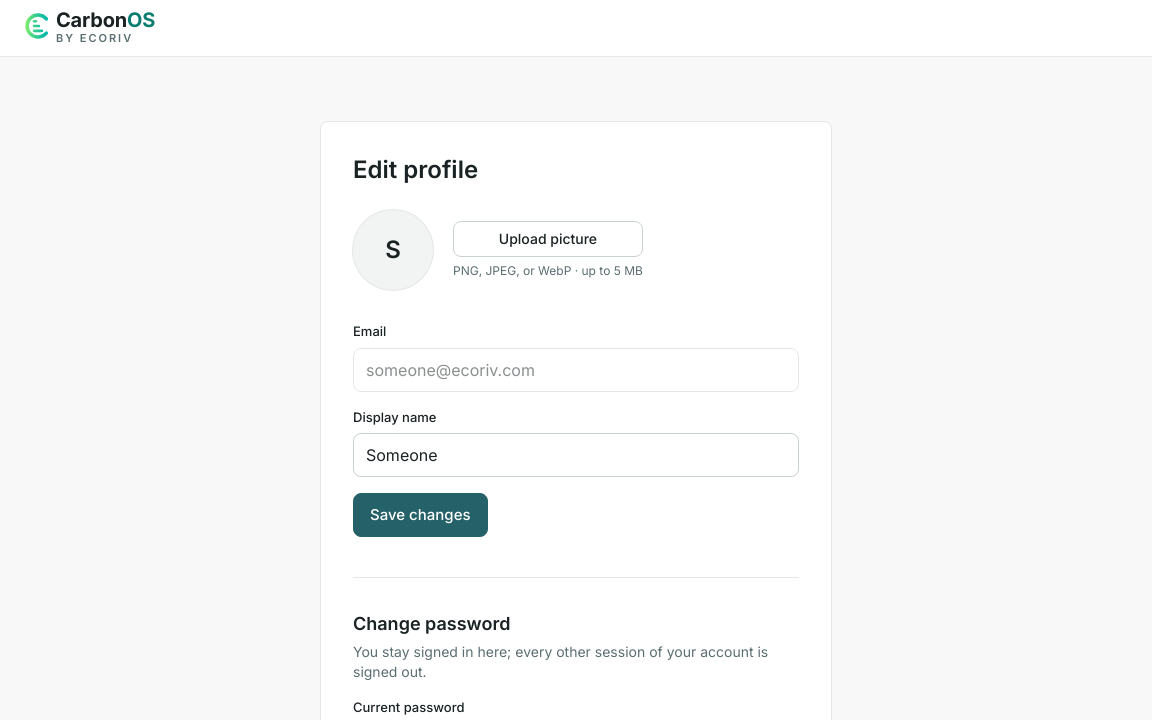
renders a 422 field error inline
expect the field labelled "Display name" is shown: met, box [353, 433, 799, 477]
Click the button "Save changes".
click(420, 515)  # box [353, 493, 488, 537]
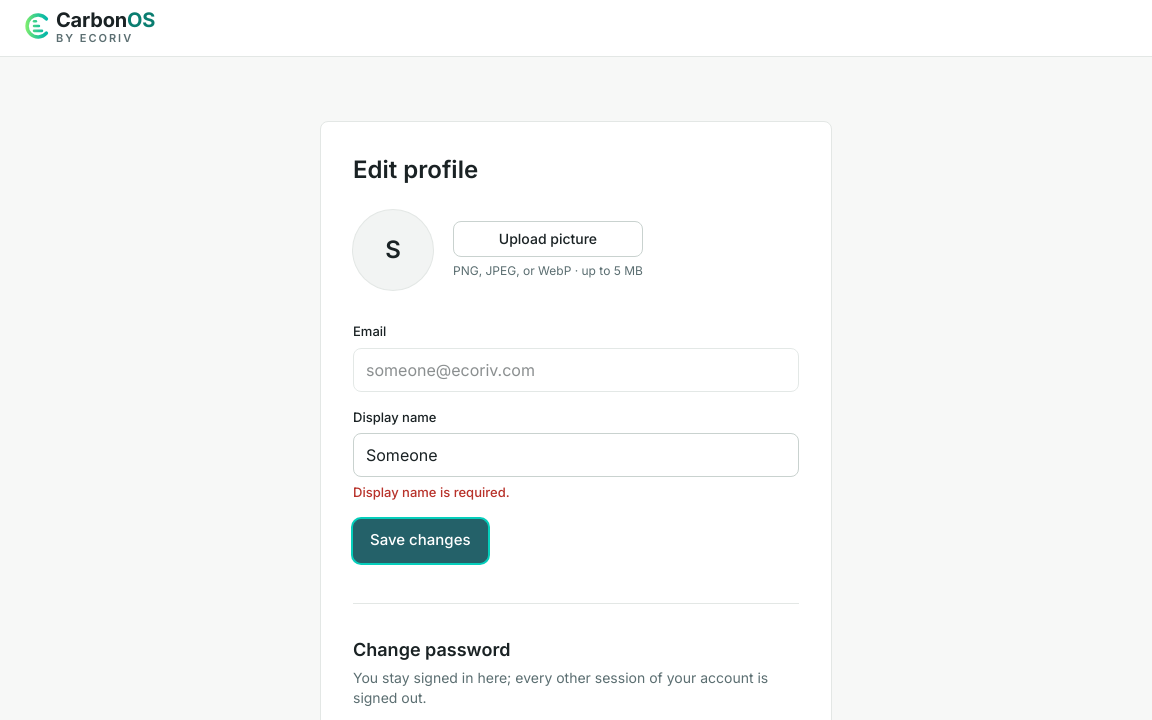
expect the text "Display name is required." is shown: met, box [353, 484, 510, 500]
